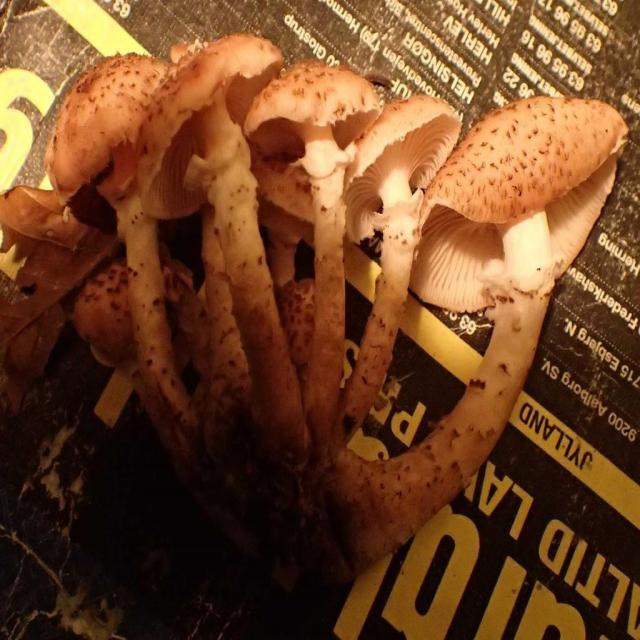Armillaria mellea: (0, 34, 626, 572)
